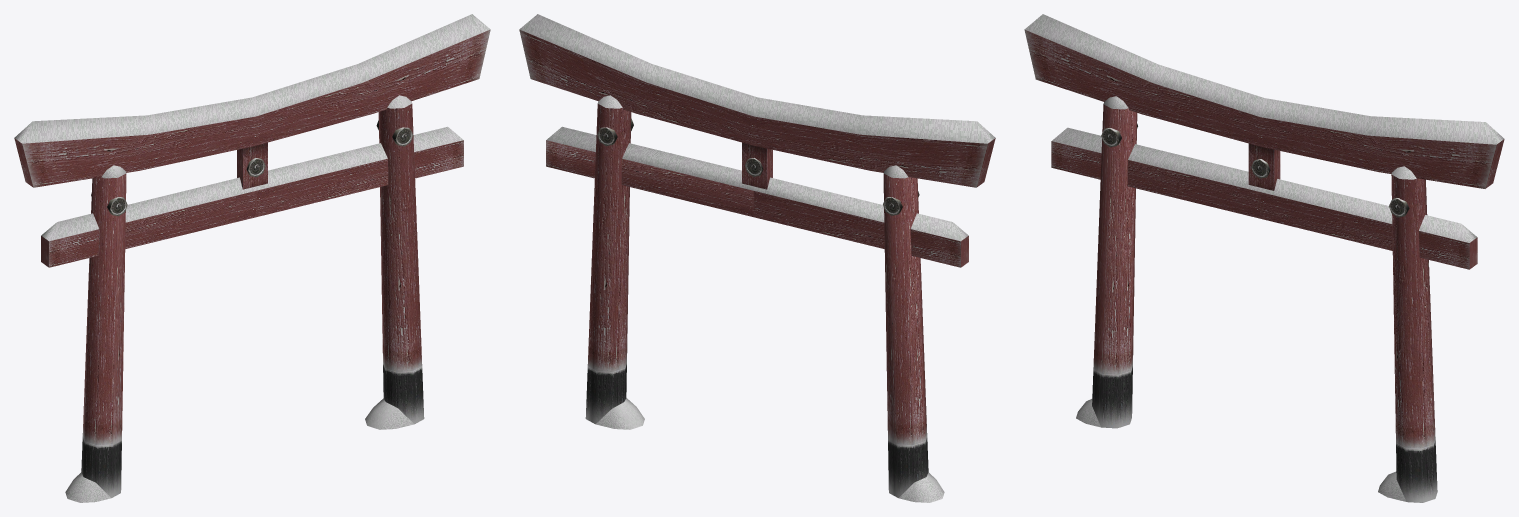
The model's file is torii_snow.fbx.
3 views of the same model, side by side, from view 1: azimuth 30°, elevation 25°; view 2: azimuth 150°, elevation 25°; view 3: azimuth 330°, elevation 25° (orthographic).
Parts seen in each view (by area): view 1: mesh_0, mesh_1; view 2: mesh_0, mesh_1; view 3: mesh_0, mesh_1.
Boxes of the visible parts, box(x1,y1,x2,y2) form: mesh_0: box(14, 29, 490, 497); mesh_1: box(14, 14, 490, 502); mesh_0: box(519, 29, 995, 497); mesh_1: box(519, 14, 995, 502); mesh_0: box(1024, 29, 1504, 502); mesh_1: box(1024, 14, 1504, 501).
Size of the model in its own units: 927 by 730 by 71.64.
2 materials, 2 textured.
